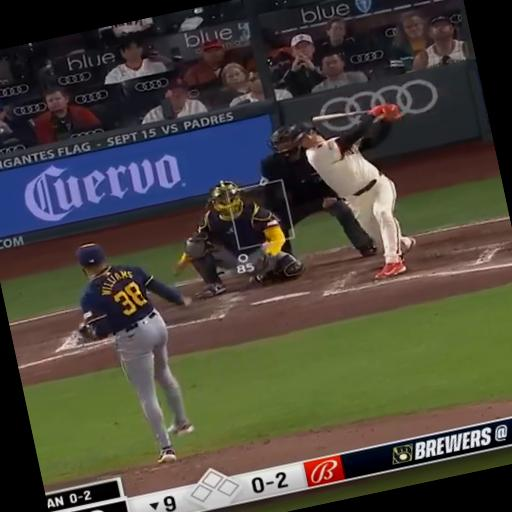bat: (311, 110, 368, 122)
